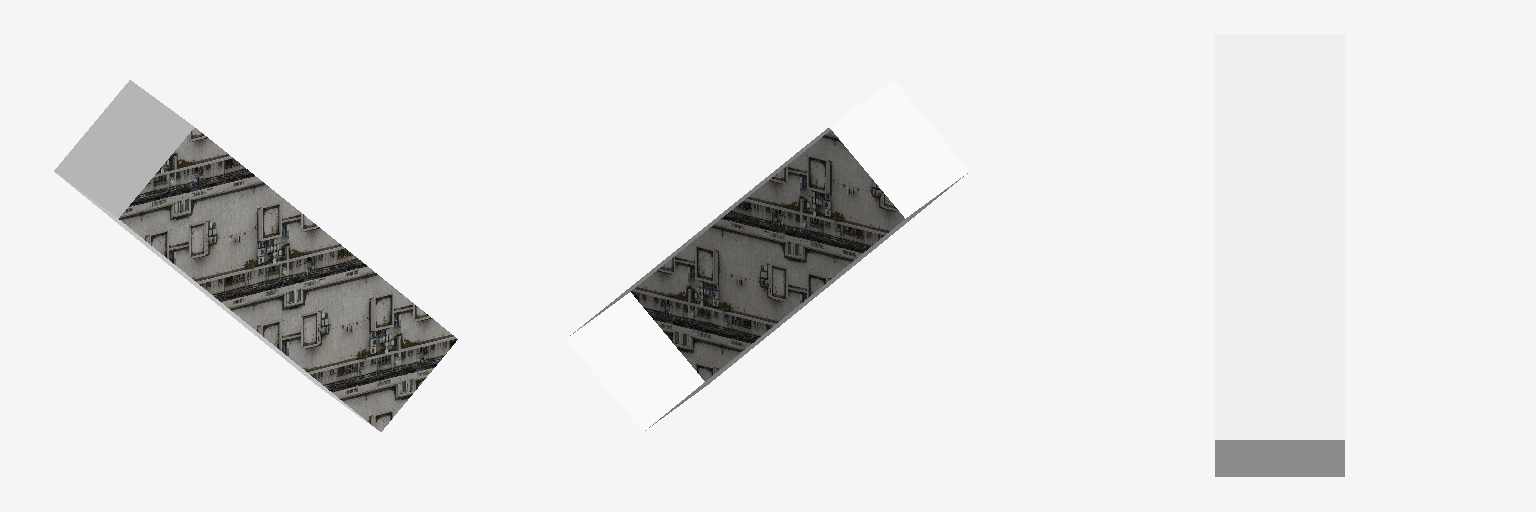
The picture shows the model from 3 angles: view 1: azimuth 30°, elevation 25°; view 2: azimuth 150°, elevation 25°; view 3: azimuth 270°, elevation 25°; orthographic projection.
Parts seen in each view (by area): view 1: Building; view 2: Building; view 3: Building.
Boxes of the visible parts, x1=… form: Building: x1=54, y1=80, x2=457, y2=431; Building: x1=566, y1=80, x2=969, y2=431; Building: x1=1215, y1=35, x2=1344, y2=476.
Size of the model in its own units: 45.41 by 44.8 by 15.
Materials: 2 (1 with a texture image).